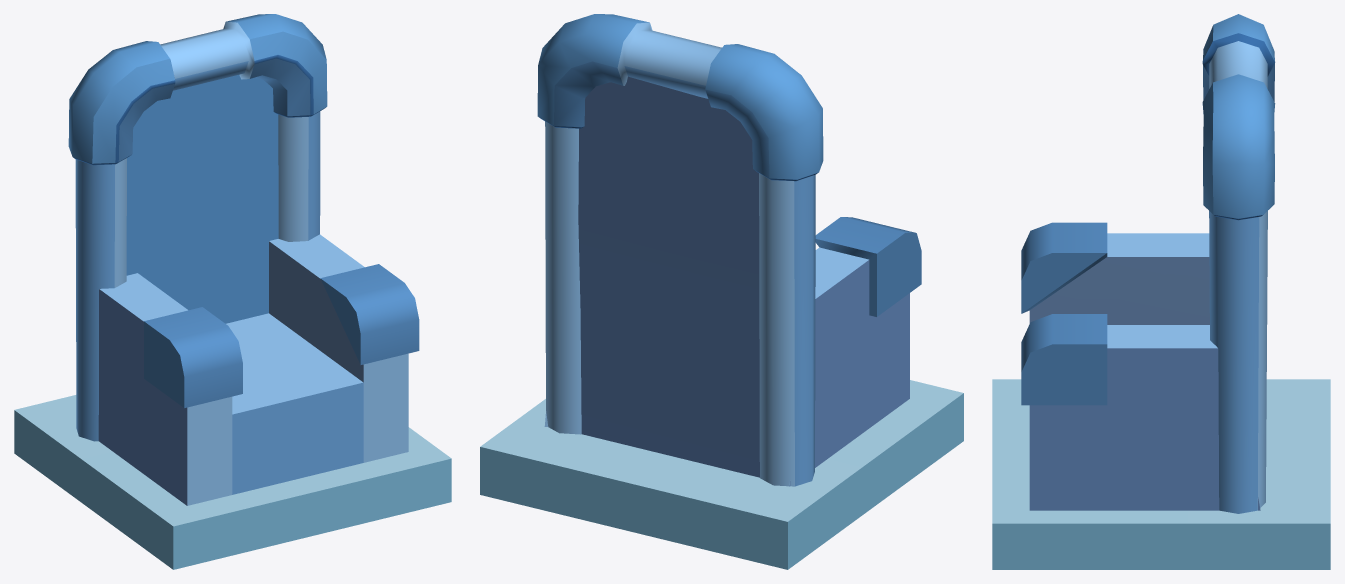
The model's file is ghe2.fbx.
The picture shows the model from 3 angles, left to right: view 1: azimuth 30°, elevation 25°; view 2: azimuth 150°, elevation 25°; view 3: azimuth 270°, elevation 25°; orthographic projection. The views are drawn at different scales.
Visible parts, largest first — view 1: ghe2; view 2: ghe2; view 3: ghe2.
Part boxes in pixels (x1,y1,x2,y2): ghe2: [14, 14, 451, 569]; ghe2: [480, 14, 963, 569]; ghe2: [992, 14, 1330, 569].
Bounding box in the file's own units: 408 × 586 × 404.
